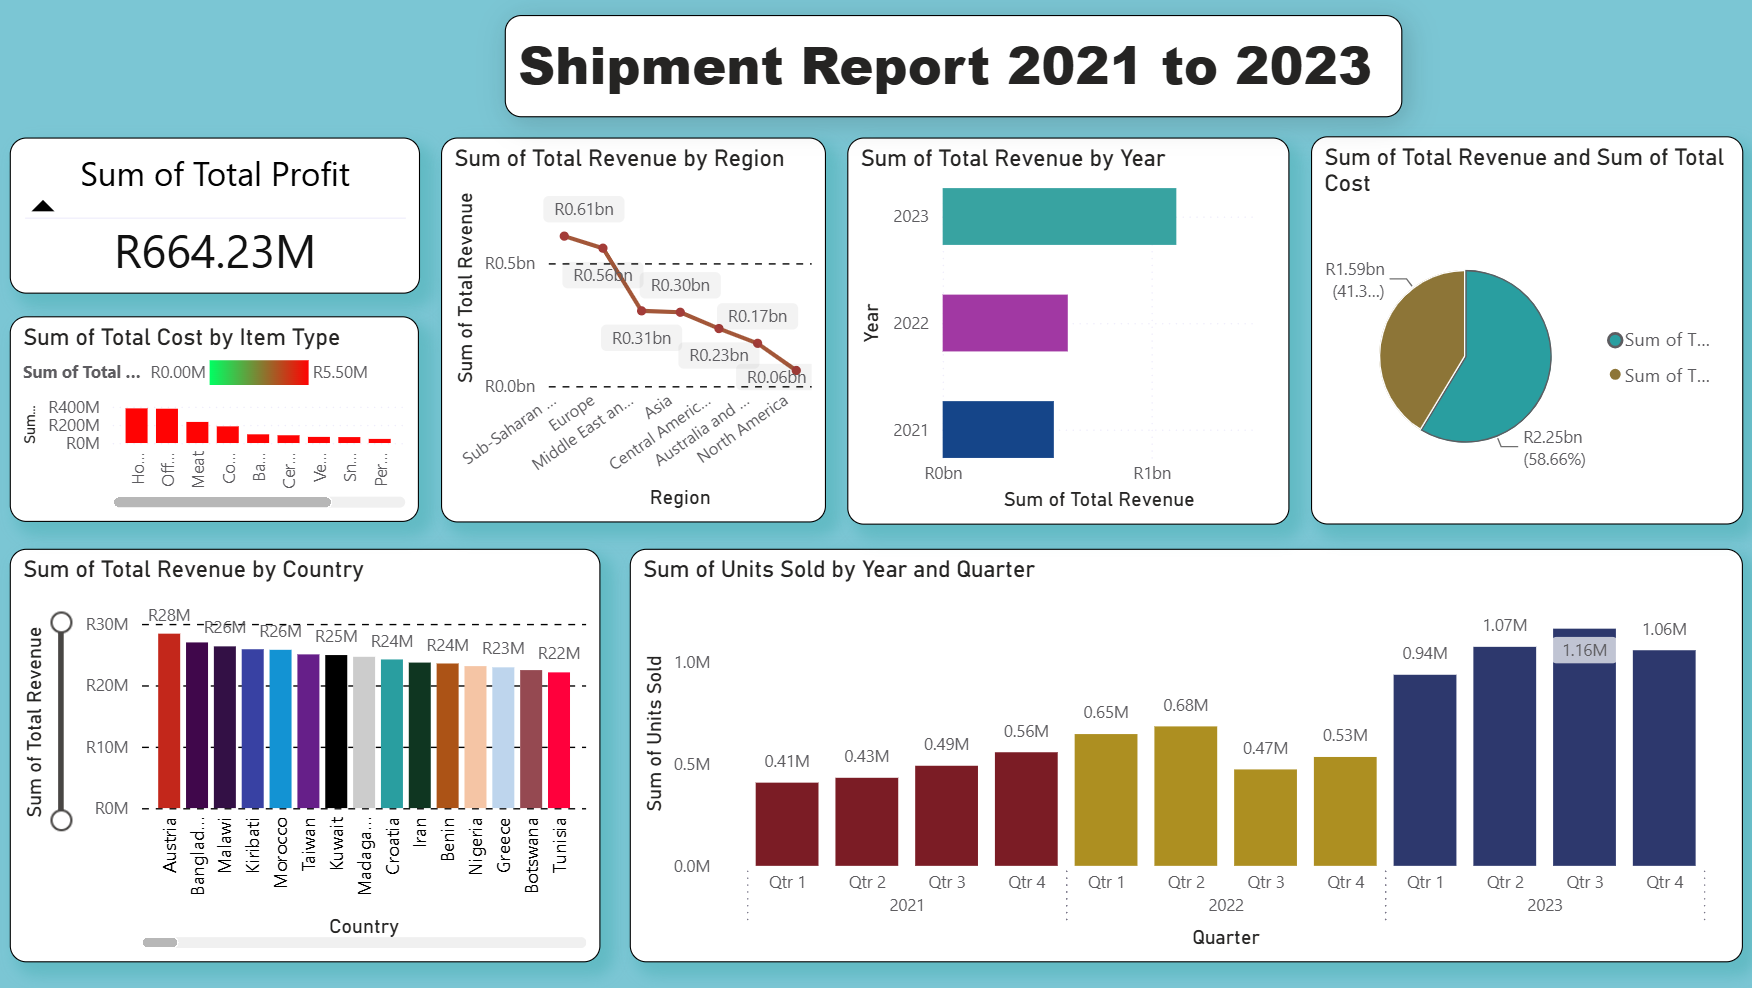

The dashboard page shown, as its layout file describes it:
{"tool":"powerbi","page":{"name":"Page 1","canvas":[1280,720],"ordinal":0},"visuals":[{"type":"tableEx","fields":{"Values":["Sum(Shipment Sales.Total Profit)"]},"box":[9.8,100.3,298.4,113.7],"z":0},{"type":"clusteredColumnChart","fields":{"Category":["Shipment Sales.Country"],"Y":["Sum(Shipment Sales.Total Revenue)"]},"box":[9.8,398.6,429.2,300.8],"z":1000},{"type":"clusteredColumnChart","fields":{"Y":["Sum(Shipment Sales.Total Cost)"],"Category":["Shipment Sales.Item Type"]},"box":[9.7,230.4,298,149.6],"z":2000},{"type":"lineChart","fields":{"Category":["Shipment Sales.Region"],"Y":["Sum(Shipment Sales.Total Revenue)"]},"box":[324.1,100.3,280,280],"z":3000},{"type":"lineClusteredColumnComboChart","fields":{"Y":["Sum(Shipment Sales.Units Sold)"],"Category":["Shipment Sales.Order Date.Variation.Date Hierarchy.Year","Shipment Sales.Order Date.Variation.Date Hierarchy.Quarter"]},"box":[461,398.6,809.5,300.8],"z":4000},{"type":"clusteredBarChart","fields":{"Category":["Shipment Sales.Order Date.Variation.Date Hierarchy.Year"],"Y":["Sum(Shipment Sales.Total Revenue)"]},"box":[618.8,100.3,321.6,281.3],"z":5000},{"type":"pieChart","fields":{"Y":["Sum(Shipment Sales.Total Revenue)","Sum(Shipment Sales.Total Cost)"]},"box":[956.3,99,314.3,282.5],"z":6000},{"type":"textbox","box":[370.4,10.9,652.7,74.8],"z":7000}]}

Visuals, with their boxes in screenshot pixels (x1, y1, x2, y2), scaled from the page's 1280x720 canvas onto the 1752x988 screenshot:
tableEx - Sum(Shipment Sales.Total Profit): x1=13 y1=138 x2=422 y2=294
clusteredColumnChart - Shipment Sales.Country x Sum(Shipment Sales.Total Revenue): x1=13 y1=547 x2=601 y2=960
clusteredColumnChart - Sum(Shipment Sales.Total Cost) x Shipment Sales.Item Type: x1=13 y1=316 x2=421 y2=521
lineChart - Shipment Sales.Region x Sum(Shipment Sales.Total Revenue): x1=444 y1=138 x2=827 y2=522
lineClusteredColumnComboChart - Sum(Shipment Sales.Units Sold) x Shipment Sales.Order Date.Variation.Date Hierarchy.Year: x1=631 y1=547 x2=1739 y2=960
clusteredBarChart - Shipment Sales.Order Date.Variation.Date Hierarchy.Year x Sum(Shipment Sales.Total Revenue): x1=847 y1=138 x2=1287 y2=524
pieChart - Sum(Shipment Sales.Total Revenue) x Sum(Shipment Sales.Total Cost): x1=1309 y1=136 x2=1739 y2=524
textbox: x1=507 y1=15 x2=1400 y2=118
